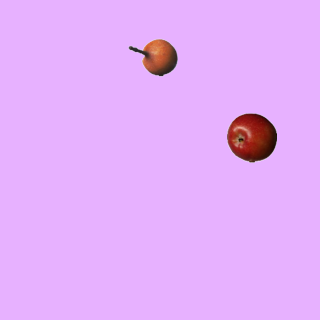Apple Braeburn: (226, 112, 276, 162)
Granadilla: (127, 32, 177, 82)
